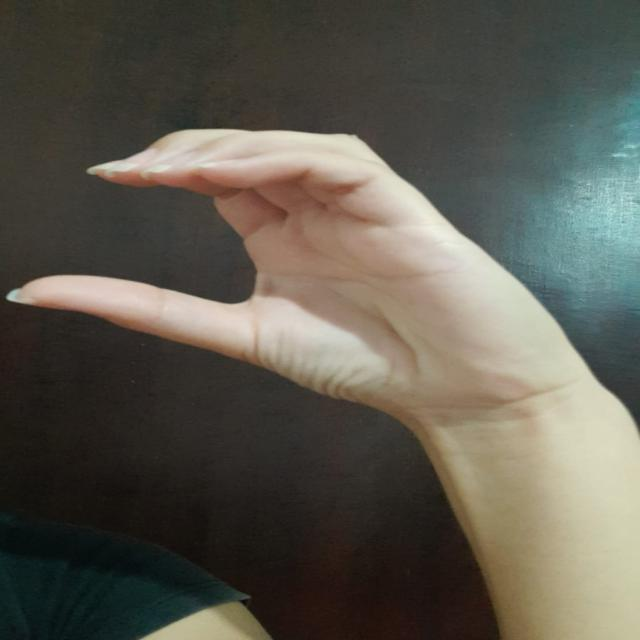C: (0, 116, 598, 410)
